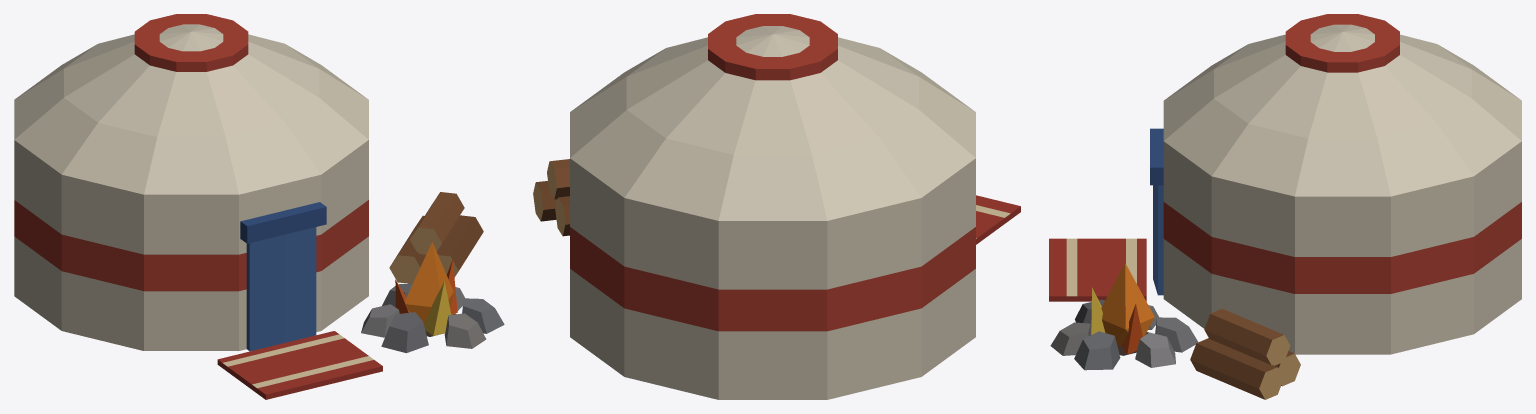
File: tent.glb
3 renders of one model, left to right at view 1: azimuth 30°, elevation 25°; view 2: azimuth 150°, elevation 25°; view 3: azimuth 270°, elevation 25°, orthographic. The views are drawn at different scales.
Parts seen in each view (by area): view 1: tent; view 2: tent; view 3: tent.
Boxes of the visible parts, x1=… form: tent: x1=14, y1=14, x2=504, y2=399; tent: x1=533, y1=14, x2=1020, y2=399; tent: x1=1049, y1=14, x2=1521, y2=399.
Size of the model in its own units: 0.9977 by 0.5764 by 1.
